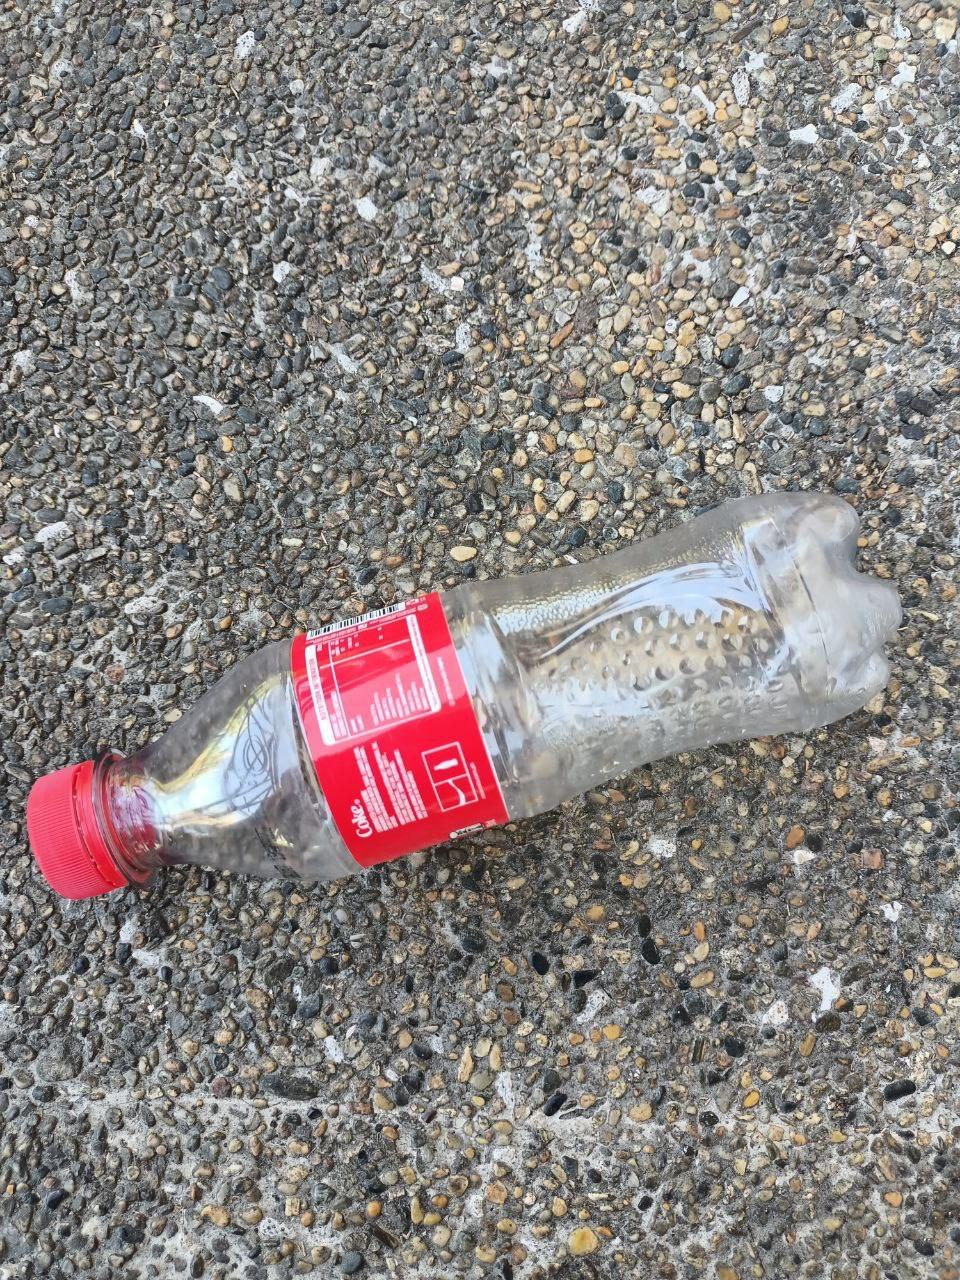plastic: (23, 464, 907, 946)
